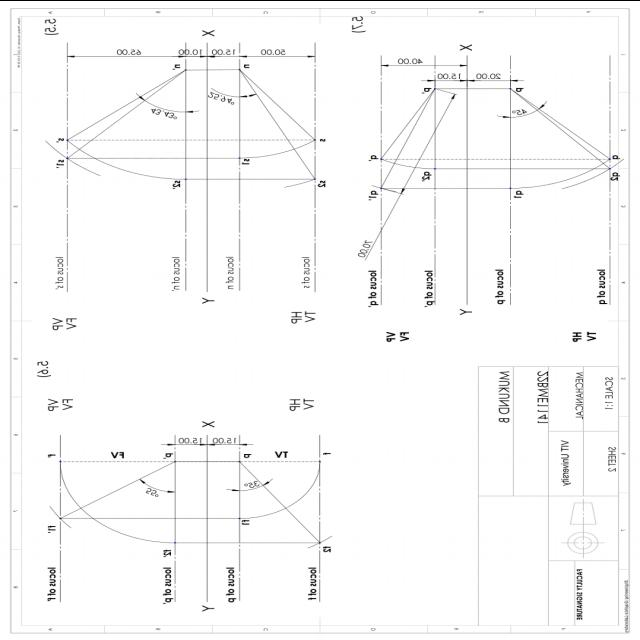Drawings: (31, 17, 332, 335), (341, 34, 625, 351), (34, 384, 344, 617)
